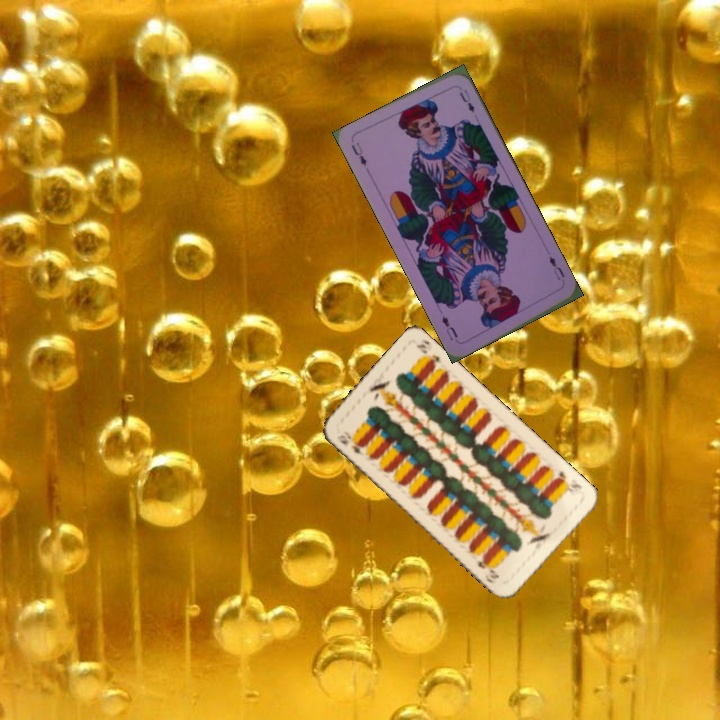E10: (333, 430, 367, 458), (551, 467, 585, 495)
EU: (545, 252, 567, 283), (347, 138, 369, 168)
